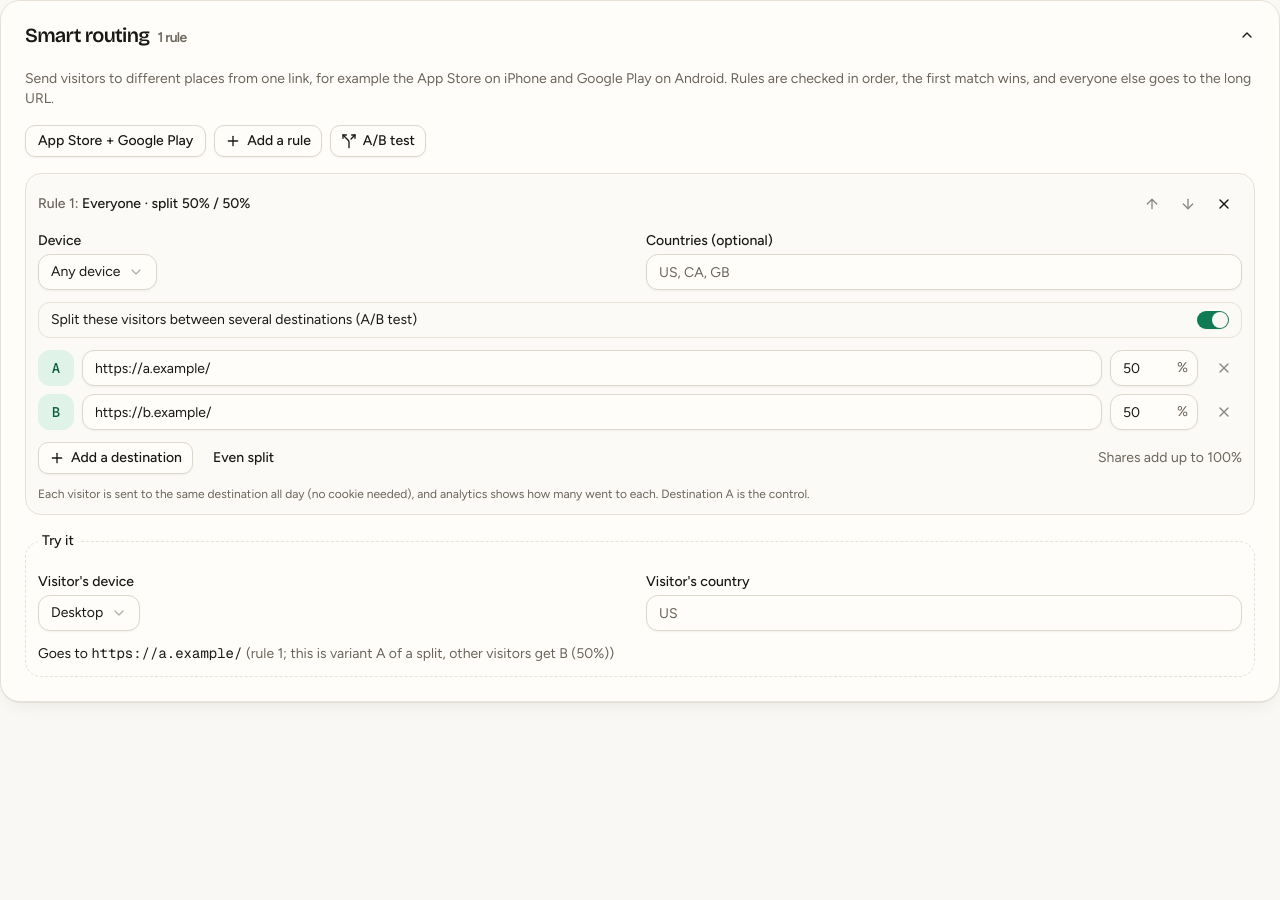
Scenario: split editor › edits destinations and shares; the rule's own URL follows destination A
The width and height of the screenshot is (1280, 900).
Replace the text in the field named "Destination A for rule 1" with "https://control.example/" at (592, 368), box [82,350,1102,386]
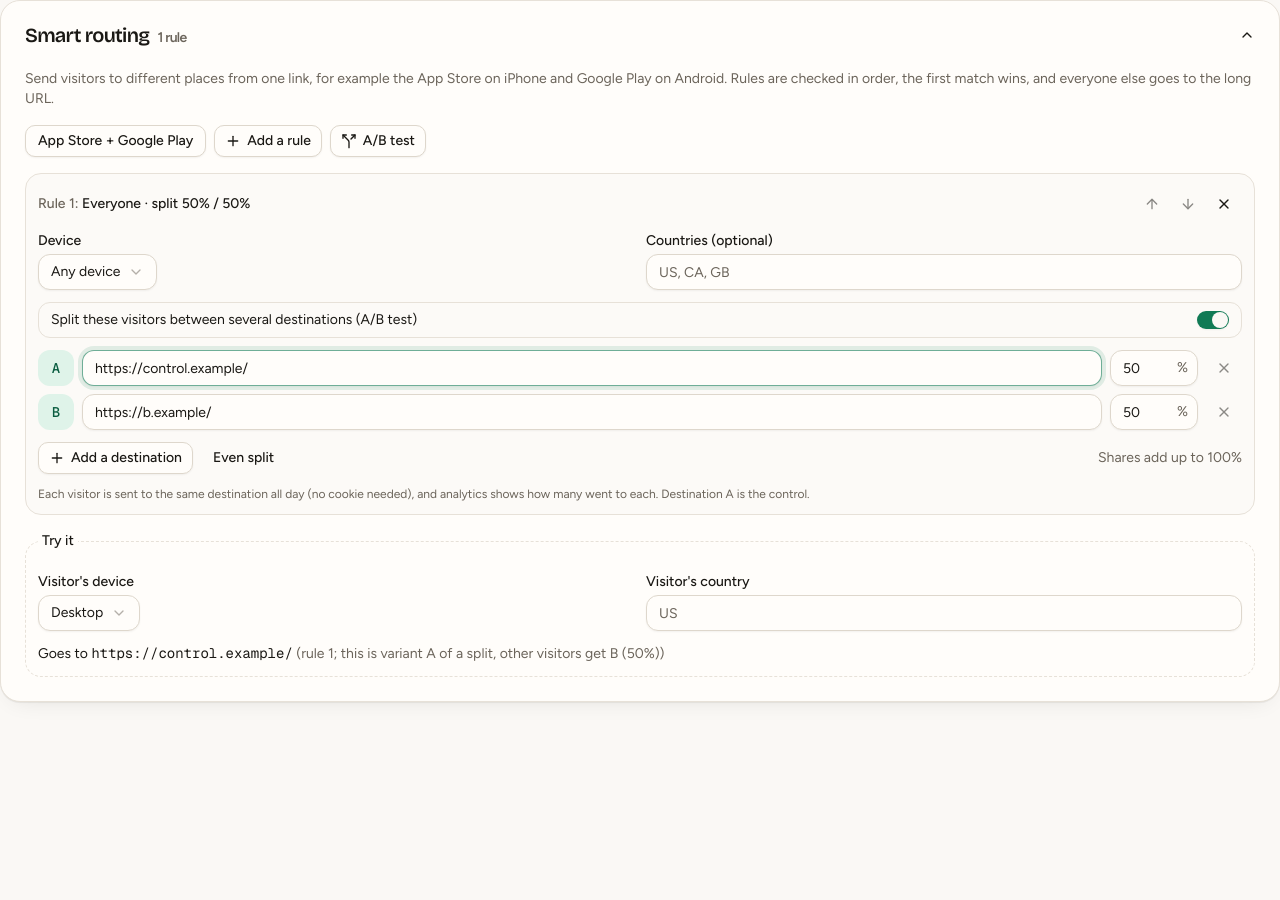
Check: the text "https://control.example/" is shown, box [91,644,293,662]
Replace the text in the number field named "Share of A for rule 1" with "70" at (1154, 368), box [1110,350,1198,386]
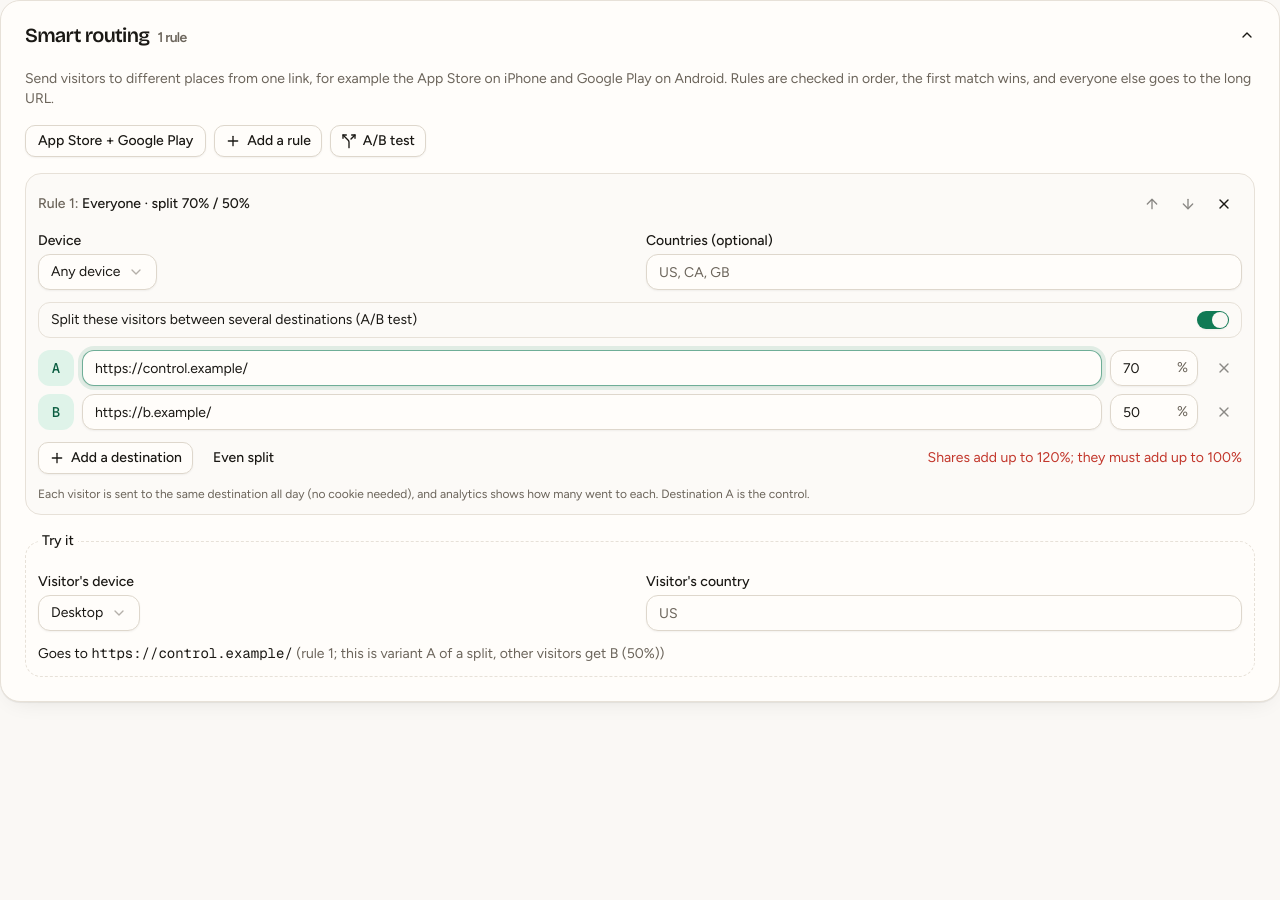
Check: the message with test id "split-total-1" shows "add up to 120%", box [928,449,1242,466]
